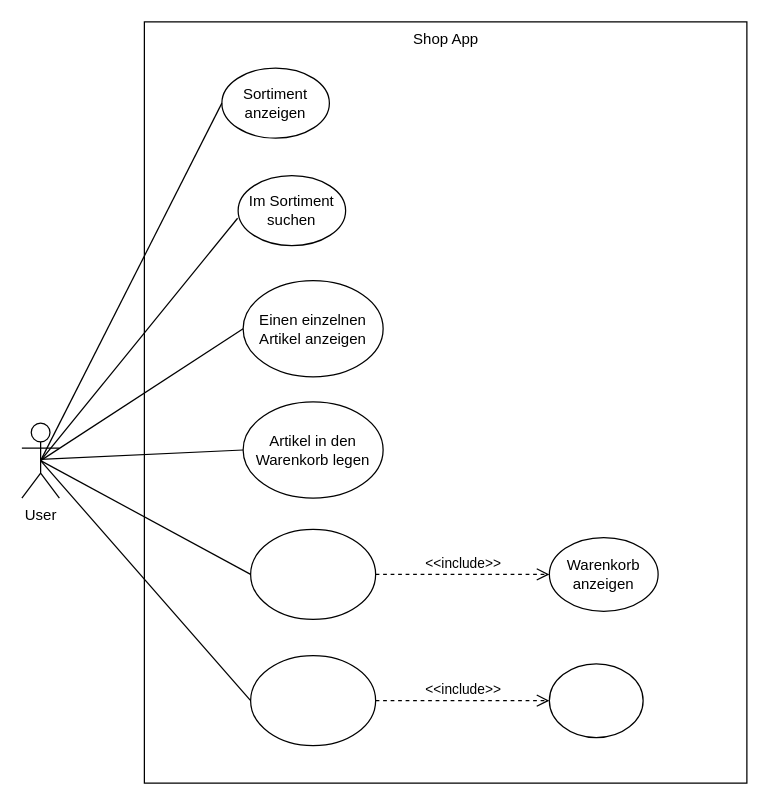
This 769x805 diagram has some shape labels left out. The centre of each missing label's shape, as x and y in pixels:
"Artikel aus Warenkorb entfernen" goes at (312,573).
"Bestellung abschicken" goes at (312,700).
"Daten eingeben" goes at (595,700).
